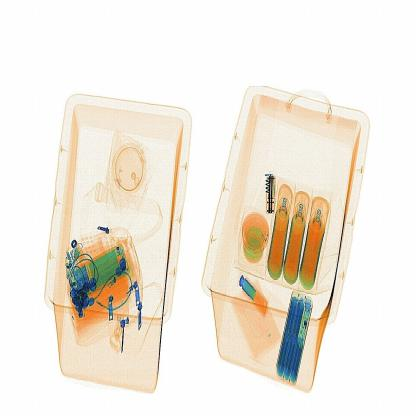scissors: (260, 169, 278, 218)
